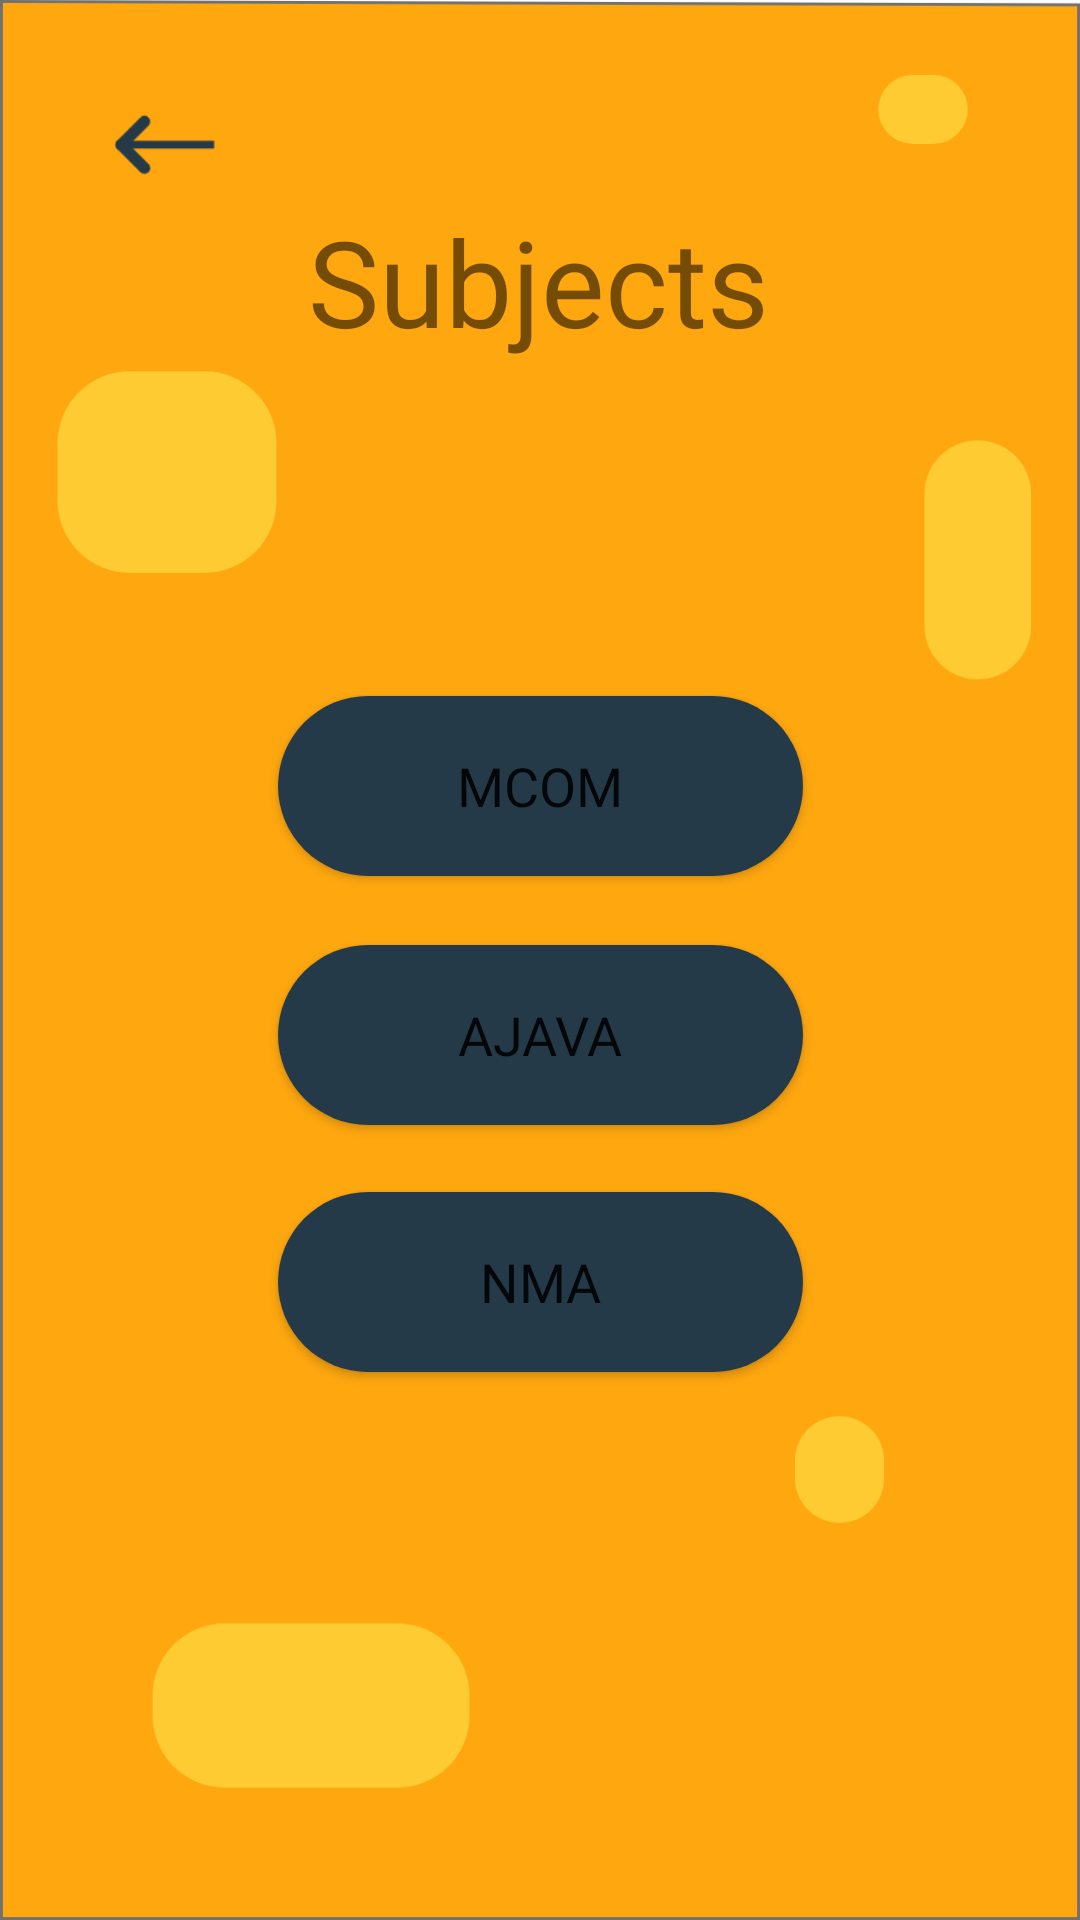

Icons on this 1080×1920 Android screen, each with its box as Rect(x1, y1, x2, y2):
Back Arrow: Rect(114, 115, 215, 174)
